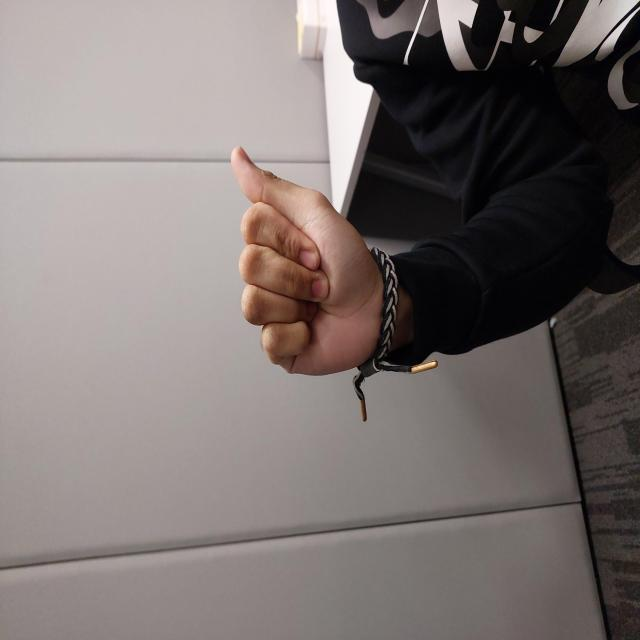A: (262, 228, 494, 383)
